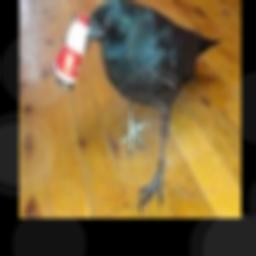Crow: (74, 0, 223, 212)
